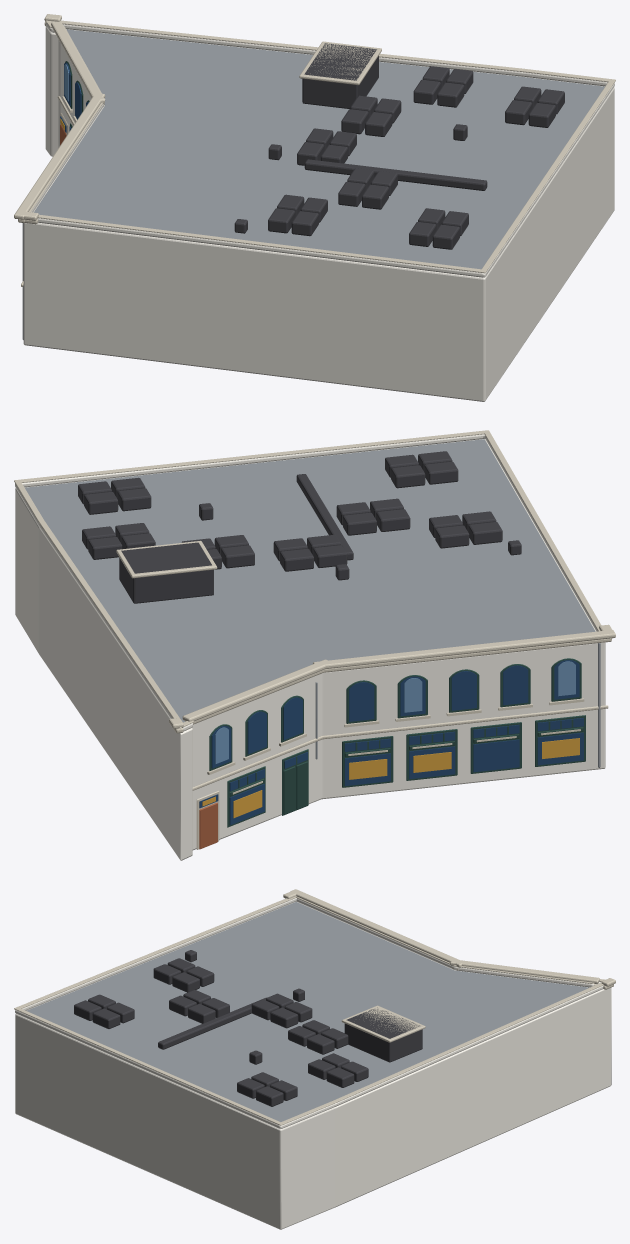
File: 21-south-park.optimized.glb
The picture shows the model from 3 angles, top to bottom: view 1: azimuth 30°, elevation 25°; view 2: azimuth 150°, elevation 25°; view 3: azimuth 270°, elevation 25°; orthographic projection. The views are drawn at different scales.
Visible parts, largest first — view 1: grp_Toy_white, grp_Toy_steel, grp_Toy_roofd, grp_Toy_stone; view 2: grp_Toy_steel, grp_Toy_white, grp_Toy_roofd, grp_Toy_stone, grp_Toy_glass, grp_Toy_sash, grp_Toy_mustard_Glow, grp_Toy_glassl_Glow, entry_door; view 3: grp_Toy_white, grp_Toy_steel, grp_Toy_roofd, grp_Toy_stone.
Part boxes in pixels (x1=…): grp_Toy_white: x1=23, y1=23, x2=614, y2=401; grp_Toy_steel: x1=22, y1=29, x2=604, y2=339; grp_Toy_roofd: x1=234, y1=43, x2=564, y2=249; grp_Toy_stone: x1=14, y1=14, x2=615, y2=286; grp_Toy_steel: x1=25, y1=439, x2=600, y2=767; grp_Toy_white: x1=15, y1=434, x2=605, y2=860; grp_Toy_roofd: x1=78, y1=451, x2=521, y2=603; grp_Toy_stone: x1=14, y1=430, x2=615, y2=849; grp_Toy_glass: x1=199, y1=660, x2=583, y2=825; grp_Toy_sash: x1=209, y1=658, x2=585, y2=827; grp_Toy_mustard_Glow: x1=202, y1=738, x2=579, y2=818; grp_Toy_glassl_Glow: x1=215, y1=661, x2=575, y2=764; entry_door: x1=199, y1=802, x2=217, y2=849; grp_Toy_white: x1=15, y1=898, x2=611, y2=1229; grp_Toy_steel: x1=26, y1=902, x2=589, y2=1121; grp_Toy_roofd: x1=74, y1=950, x2=422, y2=1106; grp_Toy_stone: x1=14, y1=889, x2=615, y2=1125.
Bounding box in the file's own units: 47.36 × 11.73 × 51.49.
